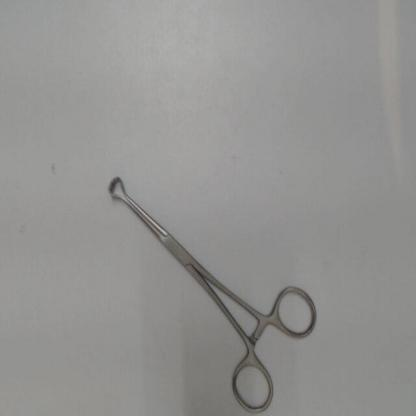Babcock Tissue Forceps: (105, 169, 320, 413)
